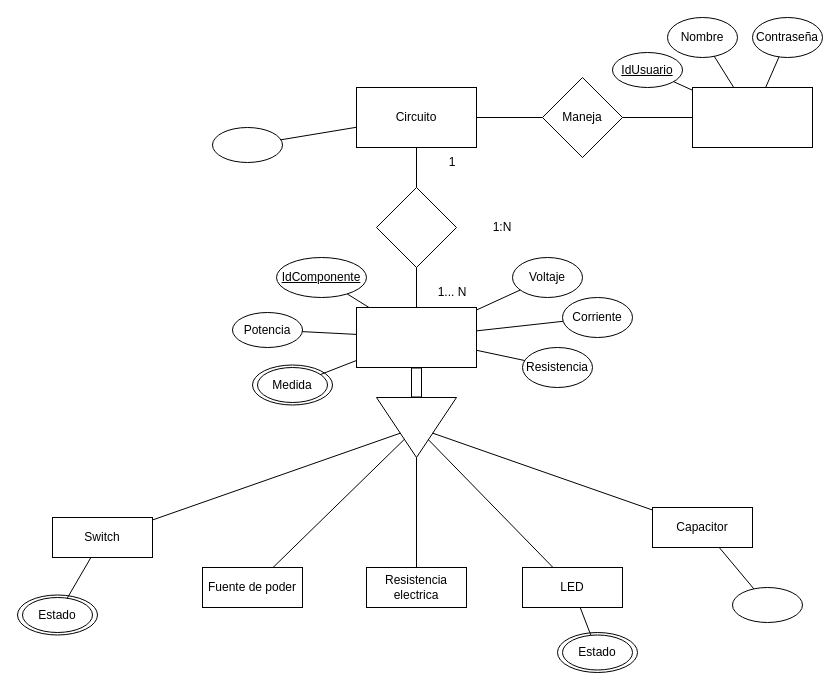
Image size: 840x690. Some labels were removed from this diagram. The shapes that lost their labels are listed below. From the top down, each one's box as (x1, y1, x2, y2) in pixels, then its label:
(692, 86, 812, 148): Usuario
(212, 126, 282, 162): IdCircuito
(376, 186, 456, 268): Contiene
(356, 306, 476, 368): Componente
(732, 586, 802, 622): Reactancia
